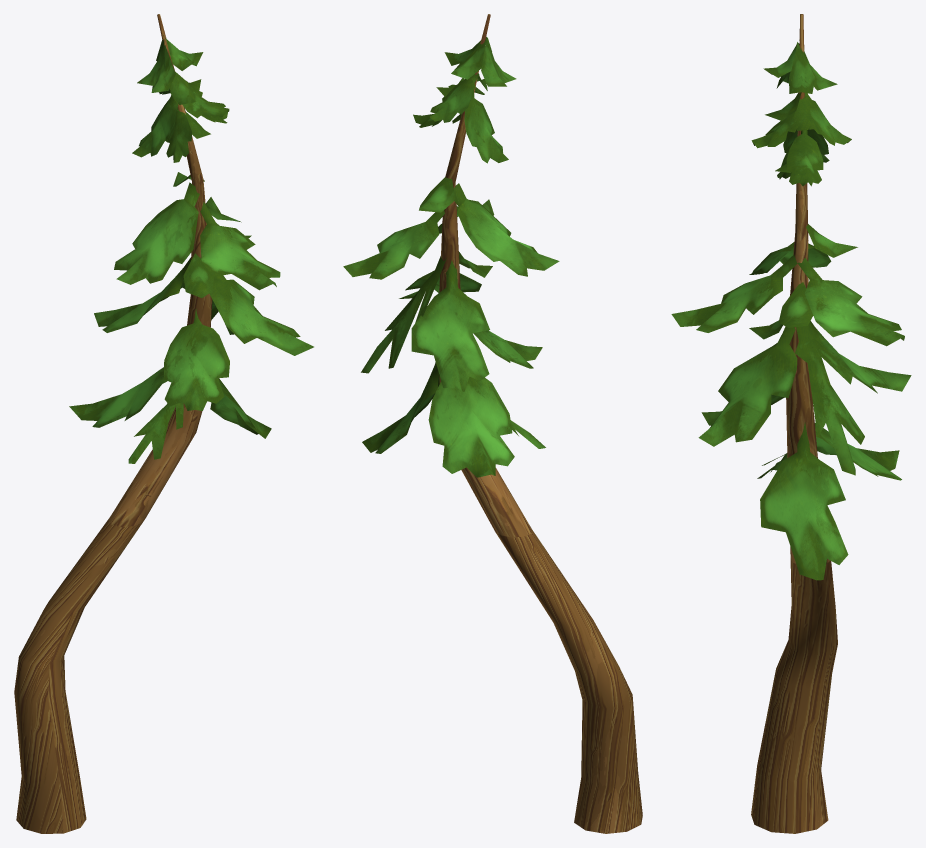
Rendered from curve tree.fbx.
3 views of the same model, side by side, from view 1: azimuth 30°, elevation 25°; view 2: azimuth 150°, elevation 25°; view 3: azimuth 270°, elevation 25° (orthographic). The views are drawn at different scales.
Parts seen in each view (by area): view 1: Curve tree; view 2: Curve tree; view 3: Curve tree.
Boxes of the visible parts, bbox=[...] form: Curve tree: bbox=[14, 14, 313, 833]; Curve tree: bbox=[343, 14, 642, 833]; Curve tree: bbox=[671, 14, 911, 833].
Bounding box in the file's own units: 186 × 523 × 132.
Materials: 1 (1 with a texture image).
